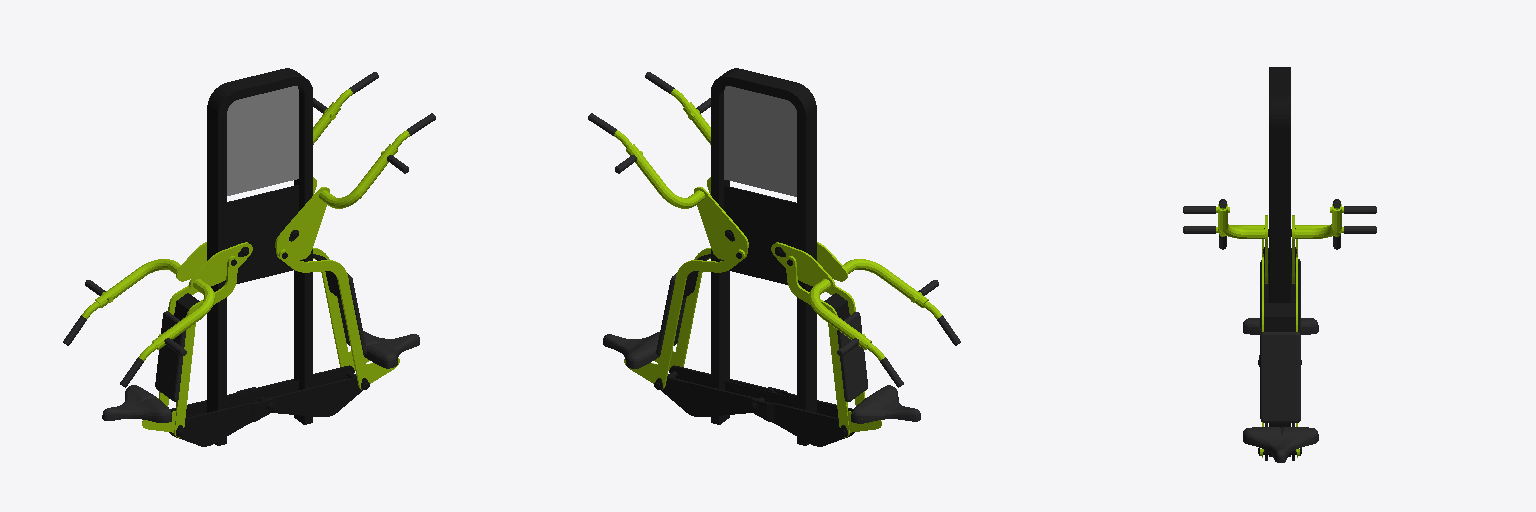
The model's file is ogym03.obj.
The picture shows the model from 3 angles: view 1: azimuth 30°, elevation 25°; view 2: azimuth 150°, elevation 25°; view 3: azimuth 270°, elevation 25°; orthographic projection.
Parts seen in each view (by area): view 1: o_gym03; view 2: o_gym03; view 3: o_gym03.
Boxes of the visible parts, x1=… form: o_gym03: x1=63, y1=68, x2=435, y2=446; o_gym03: x1=588, y1=68, x2=960, y2=446; o_gym03: x1=1183, y1=67, x2=1376, y2=462.
Bounding box in the file's own units: 208 × 212 × 106.